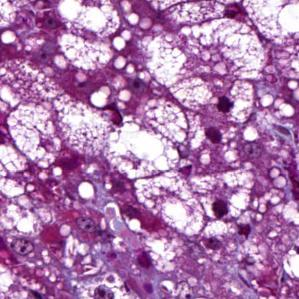ballooning: (131, 169, 208, 238), (101, 122, 182, 183), (7, 104, 64, 171)
